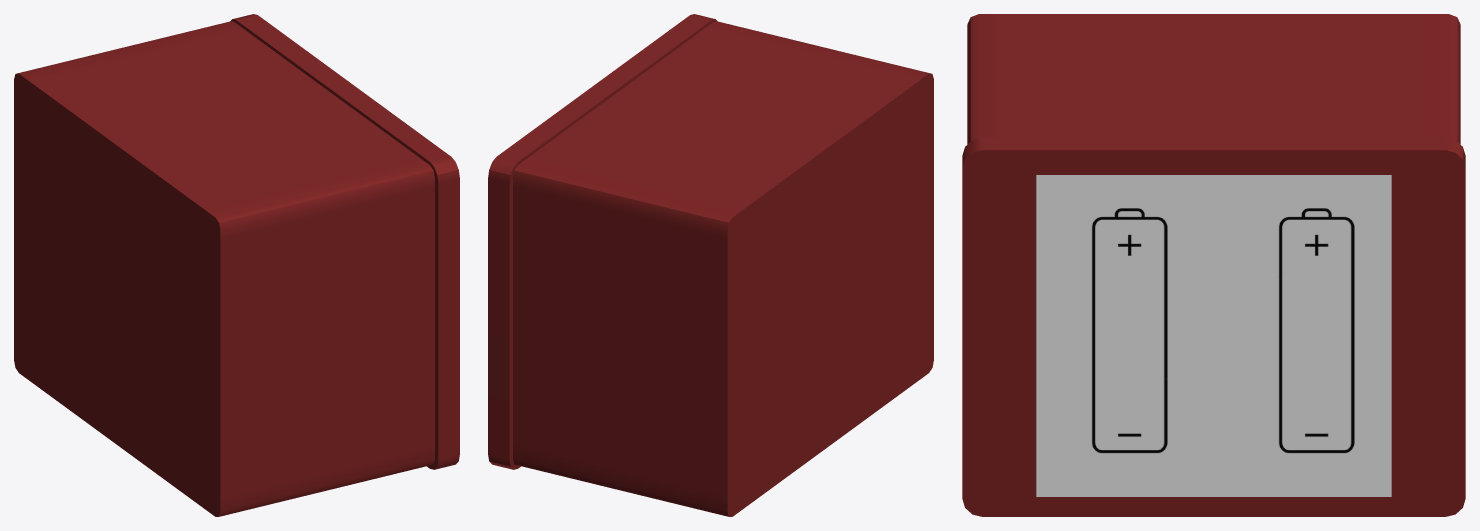
The model's file is Battery_Panel.fbx.
The picture shows the model from 3 angles, left to right: view 1: azimuth 30°, elevation 25°; view 2: azimuth 150°, elevation 25°; view 3: azimuth 270°, elevation 25°; orthographic projection. The views are drawn at different scales.
Visible parts, largest first — view 1: Battery_Panel.001, Battery_Panel_cover; view 2: Battery_Panel.001, Battery_Panel_cover; view 3: Plane, Battery_Panel_cover, Battery_Panel.001.
Boxes of the visible parts, box(x1,y1,x2,y2) form: Battery_Panel.001: box(14, 21, 434, 516); Battery_Panel_cover: box(230, 14, 459, 469); Battery_Panel.001: box(513, 21, 933, 516); Battery_Panel_cover: box(488, 14, 717, 469); Plane: box(1036, 175, 1391, 496); Battery_Panel_cover: box(962, 137, 1465, 516); Battery_Panel.001: box(967, 14, 1460, 144).
Bounding box in the file's own units: 3.32 × 4.1 × 5.1.
